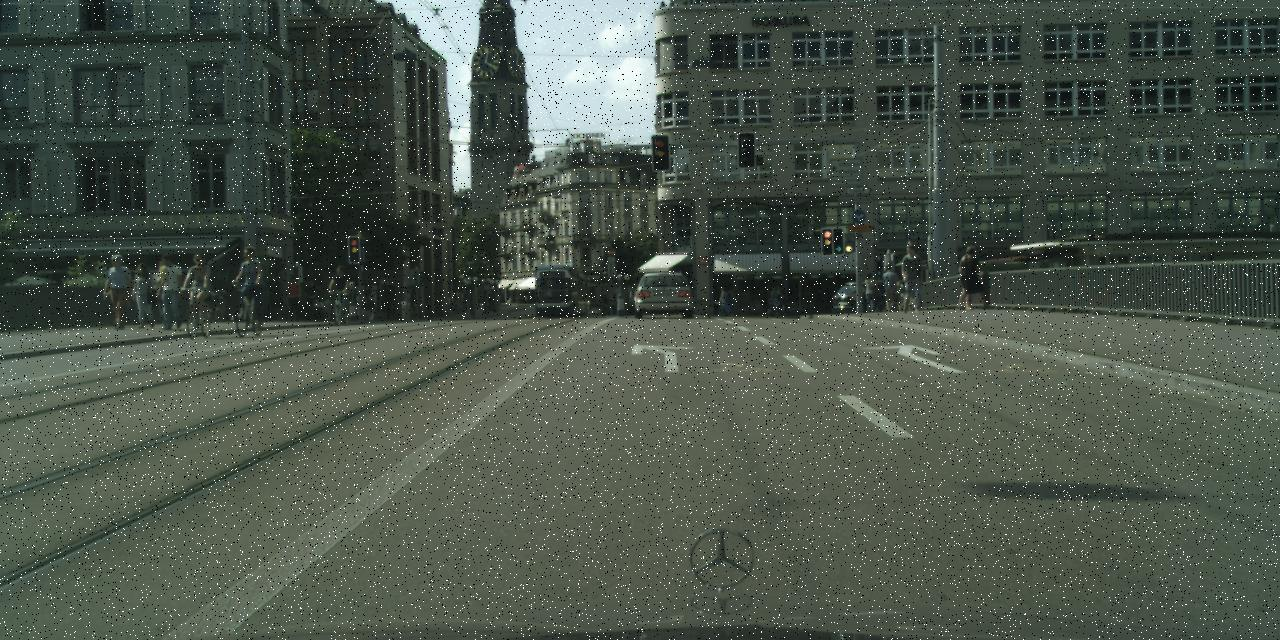ped: (103, 254, 133, 328), (155, 253, 185, 326), (233, 246, 263, 318), (184, 253, 212, 324), (896, 244, 924, 311), (132, 263, 157, 326), (955, 246, 980, 308), (961, 246, 986, 307), (152, 260, 176, 323), (878, 264, 898, 312), (331, 264, 350, 312), (284, 275, 302, 321), (302, 279, 319, 319), (862, 272, 878, 312), (718, 286, 729, 317), (774, 286, 784, 314), (768, 287, 778, 313), (357, 294, 367, 320), (322, 296, 332, 321), (365, 296, 375, 320), (774, 287, 784, 310), (728, 287, 737, 310), (477, 298, 479, 304)
